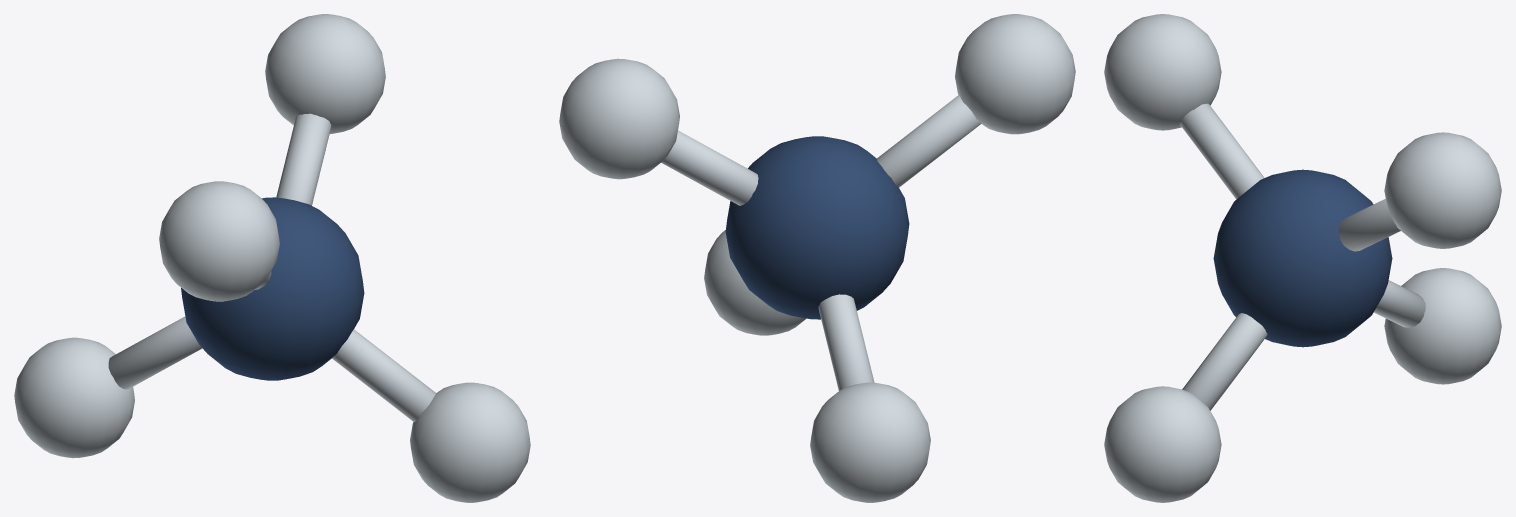
The model's file is methane-molecule-lite.glb.
3 renders of one model, left to right at view 1: azimuth 30°, elevation 25°; view 2: azimuth 150°, elevation 25°; view 3: azimuth 270°, elevation 25°, orthographic. The views are drawn at different scales.
Parts seen in each view (by area): view 1: Carbon; view 2: Carbon; view 3: Carbon.
Part boxes in pixels (x1,y1,x2,y2): Carbon: (14,14,530,502); Carbon: (559,14,1075,502); Carbon: (1104,14,1501,502).
Size of the model in its own units: 1.56 by 1.56 by 1.56.
